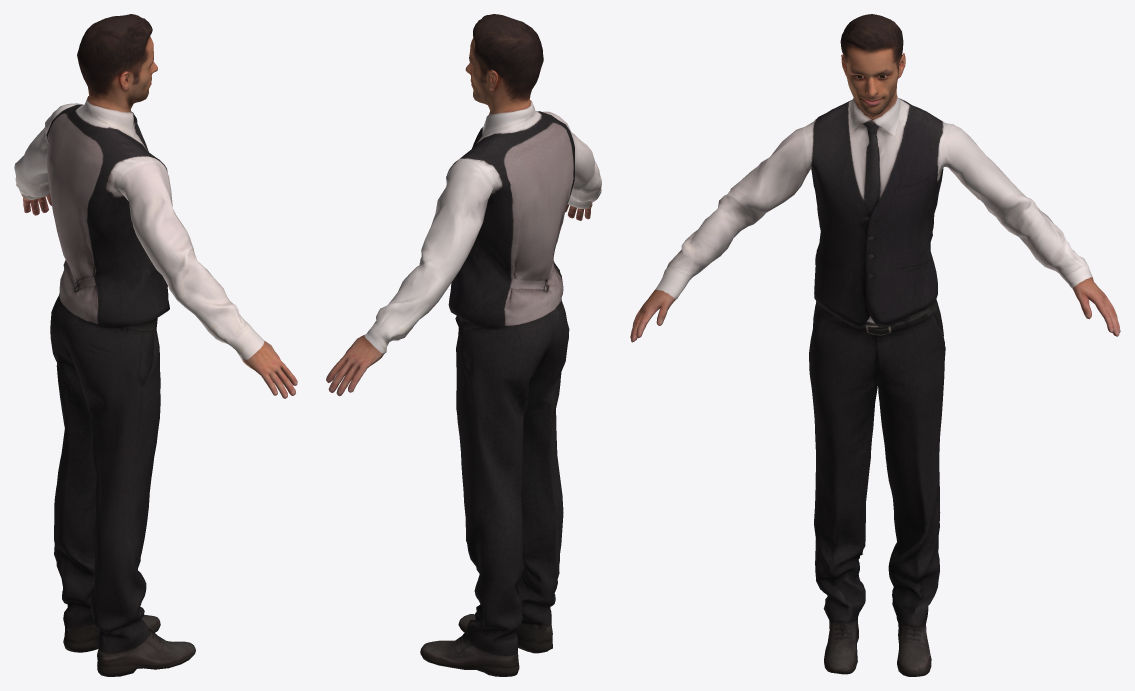
3 views of the same model, side by side, from view 1: azimuth 30°, elevation 25°; view 2: azimuth 150°, elevation 25°; view 3: azimuth 270°, elevation 25° (orthographic).
Visible parts, largest first — view 1: rp_eric_rigged_001_geo; view 2: rp_eric_rigged_001_geo; view 3: rp_eric_rigged_001_geo.
Boxes of the visible parts, x1,y1,x2,y2 form: rp_eric_rigged_001_geo: [14, 14, 297, 676]; rp_eric_rigged_001_geo: [326, 14, 601, 676]; rp_eric_rigged_001_geo: [630, 14, 1120, 676].
Bounding box in the file's own units: 0.3482 × 1.84 × 1.29.
Materials: 1 (1 with a texture image).
